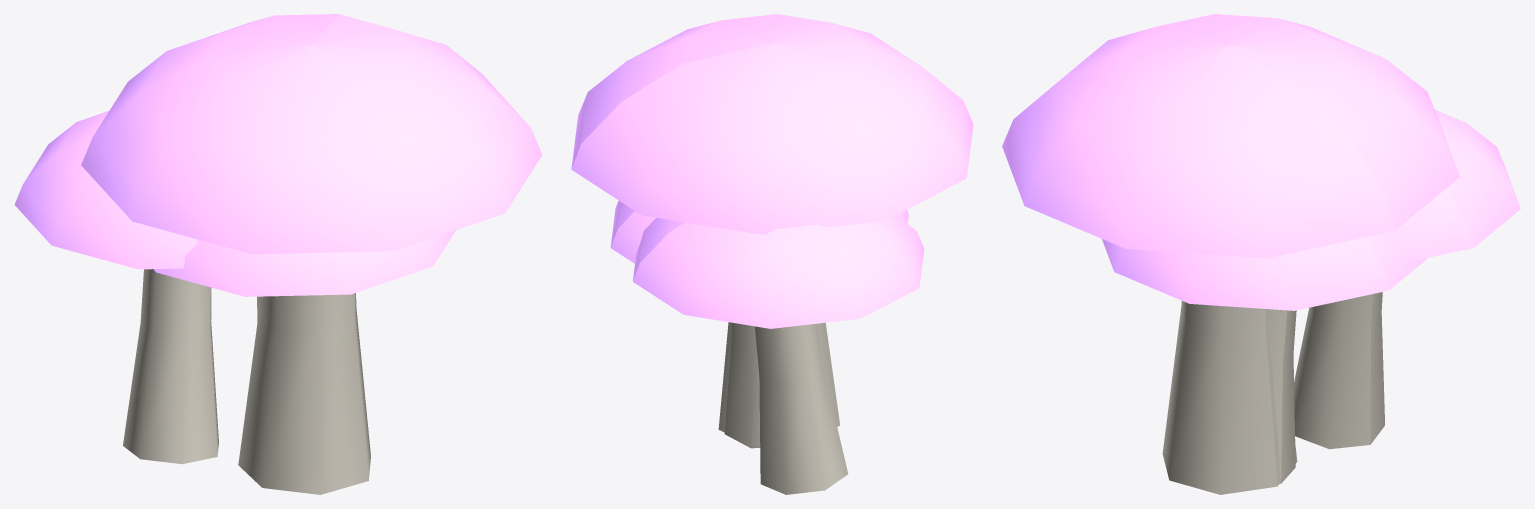
File: mushroom-giant.glb
3 renders of one model, left to right at view 1: azimuth 30°, elevation 25°; view 2: azimuth 150°, elevation 25°; view 3: azimuth 270°, elevation 25°, orthographic. The views are drawn at different scales.
Visible parts, largest first — view 1: mushroom-giant-cap, mushroom-giant-stem; view 2: mushroom-giant-cap, mushroom-giant-stem; view 3: mushroom-giant-cap, mushroom-giant-stem.
Boxes of the visible parts, x1=… form: mushroom-giant-cap: x1=14, y1=14, x2=542, y2=296; mushroom-giant-stem: x1=123, y1=269, x2=370, y2=494; mushroom-giant-cap: x1=571, y1=14, x2=973, y2=328; mushroom-giant-stem: x1=718, y1=322, x2=848, y2=494; mushroom-giant-cap: x1=1002, y1=14, x2=1520, y2=310; mushroom-giant-stem: x1=1162, y1=292, x2=1384, y2=494.
Size of the model in its own units: 3.35 by 3.33 by 3.67.
